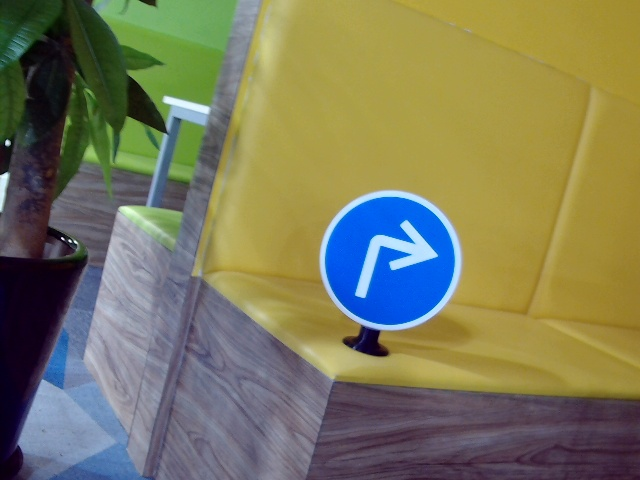turn_right: (351, 218, 437, 303)
